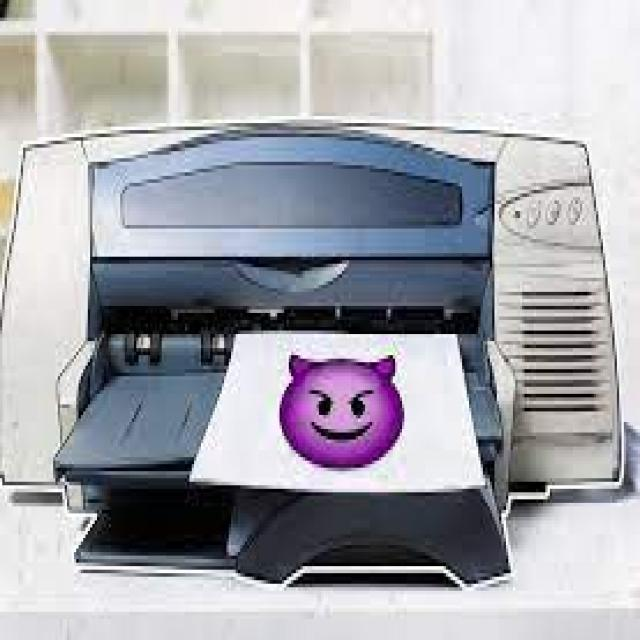printer: (0, 81, 631, 621)
